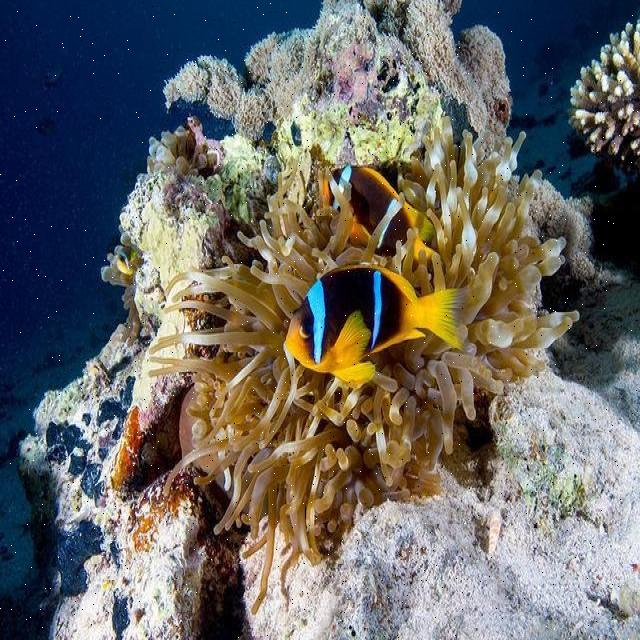fish: (282, 264, 467, 391), (334, 160, 442, 263)
reefs: (148, 113, 585, 615), (570, 17, 639, 160), (99, 234, 141, 347), (145, 127, 219, 178), (116, 247, 138, 273)
